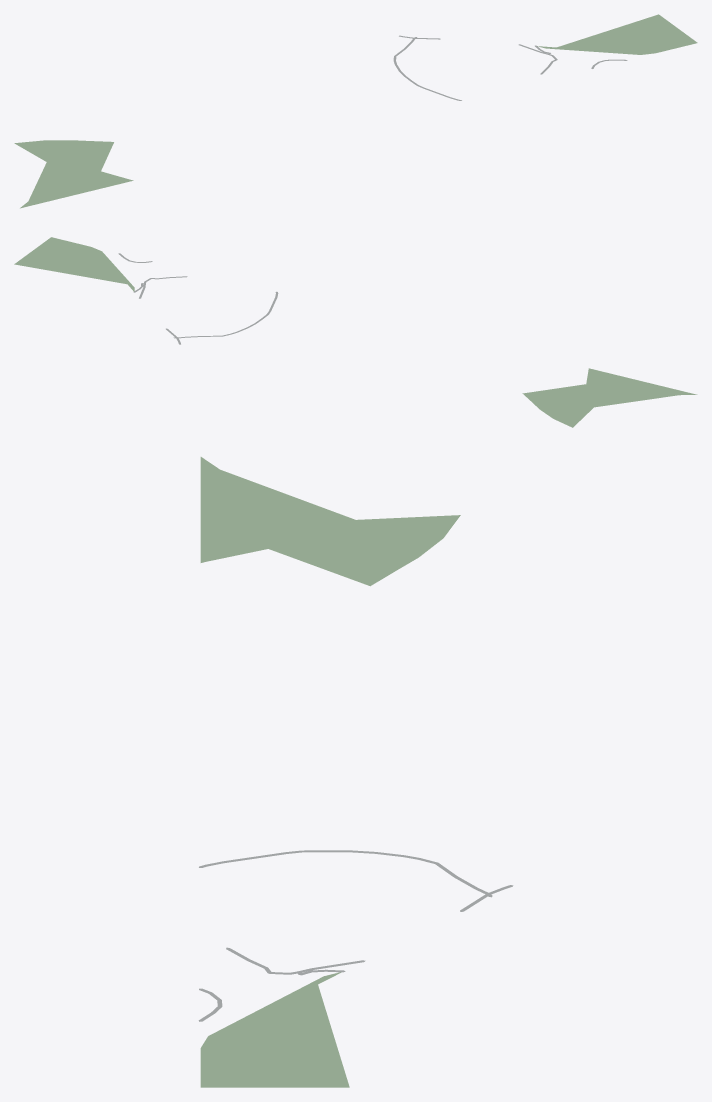
File: 10_6-known-fine.glb
3 views of the same model, one above another, from view 1: azimuth 30°, elevation 25°; view 2: azimuth 150°, elevation 25°; view 3: azimuth 270°, elevation 25° (orthographic). The views are drawn at different scales.
Size of the model in its own units: 962 by 0.1 by 203.
